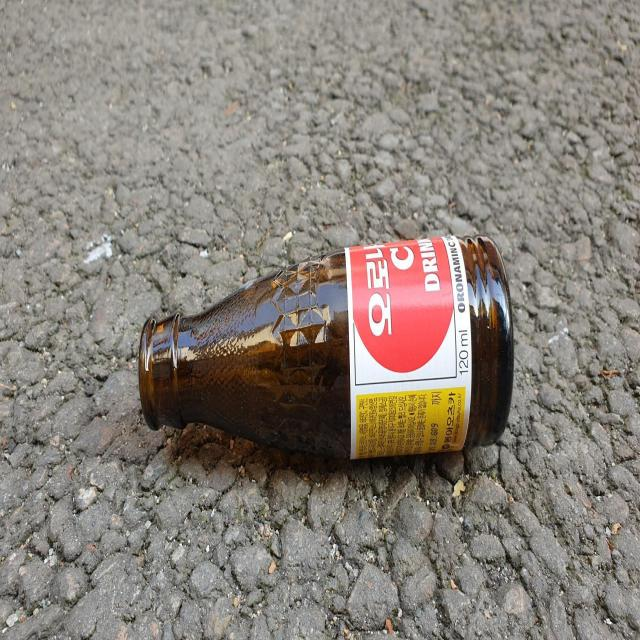glass: (138, 233, 514, 460)
